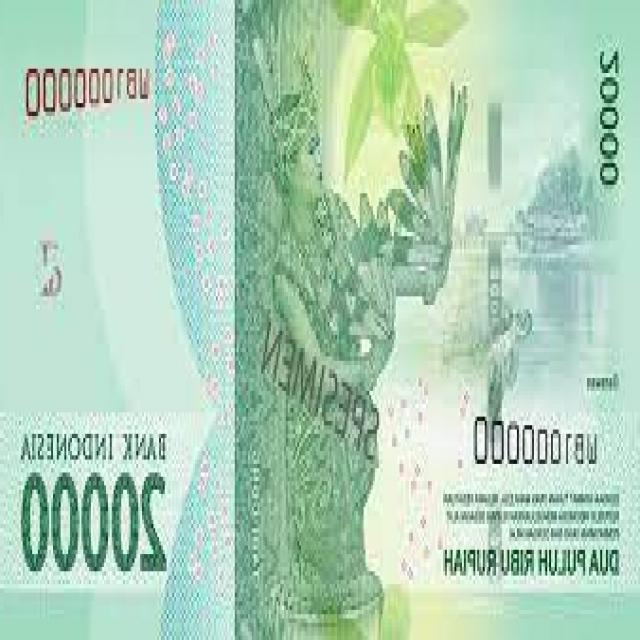dua puluh ribu rupiah: (0, 0, 640, 640), (254, 44, 462, 597), (12, 463, 170, 588)
